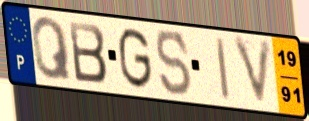B: (67, 19, 109, 85)
G: (117, 26, 155, 92)
I: (214, 35, 232, 103)
Q: (30, 15, 74, 82)
S: (154, 28, 194, 98)
V: (231, 35, 275, 111)
